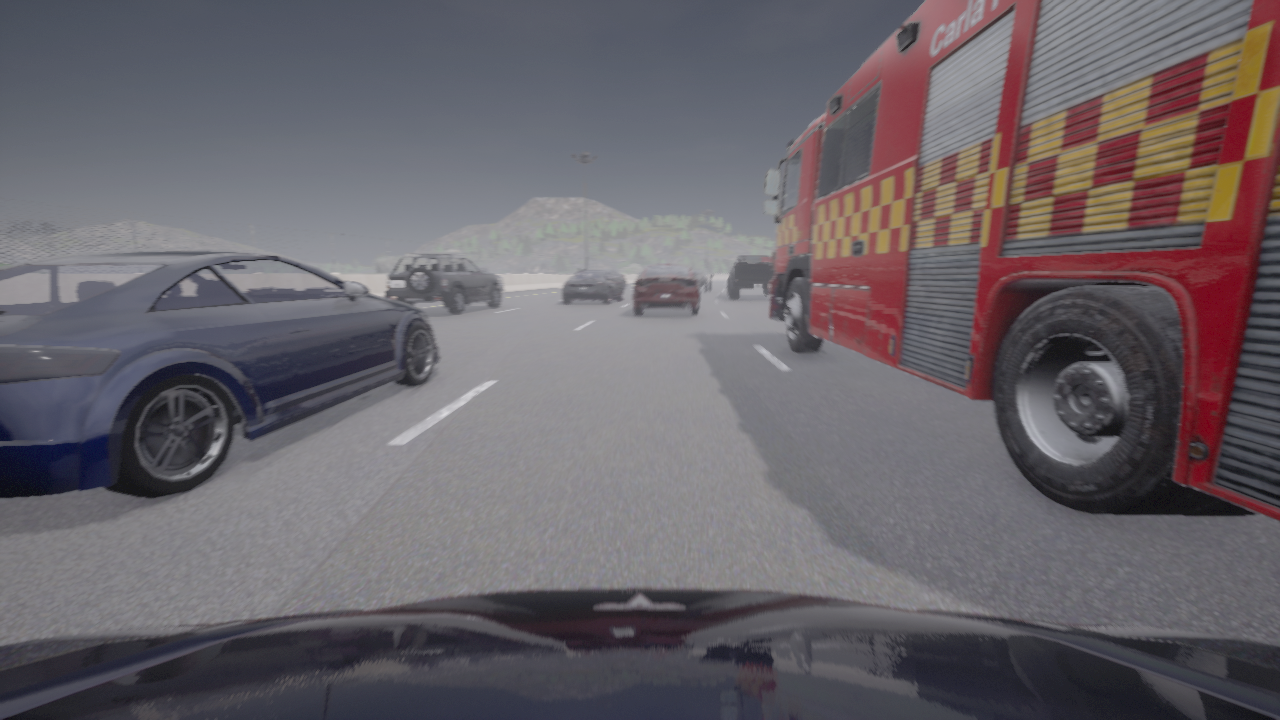cyclist: (763, 0, 1279, 521), (0, 588, 1279, 719), (0, 250, 439, 498), (384, 252, 503, 313), (634, 262, 701, 315), (561, 269, 623, 303), (728, 256, 774, 298), (692, 269, 712, 291), (602, 269, 625, 288)
